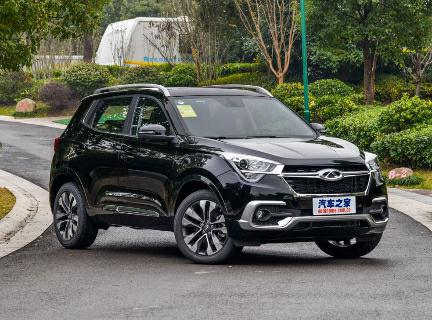奇瑞-瑞虎5x: (45, 74, 397, 269)
